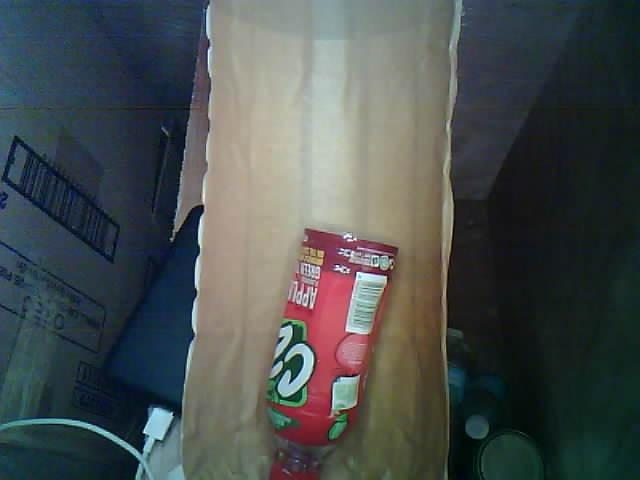small_bottle: (257, 222, 405, 480)
